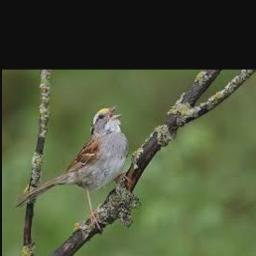Sparrow: (16, 104, 129, 232)
